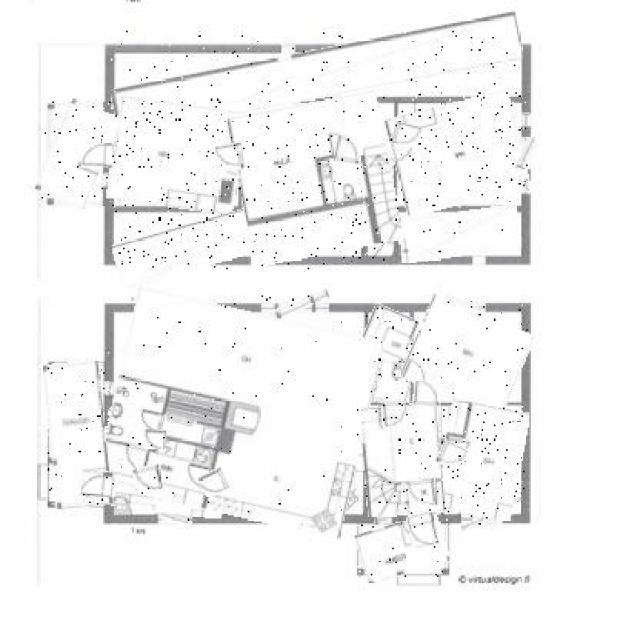door: (104, 300, 373, 526), (111, 29, 523, 117), (235, 97, 398, 260), (114, 195, 360, 272), (391, 97, 526, 209), (110, 98, 242, 211), (406, 303, 528, 411), (437, 401, 525, 517), (363, 403, 443, 515), (48, 362, 109, 508), (43, 102, 114, 206), (112, 451, 225, 515), (398, 208, 520, 260), (357, 517, 448, 577), (110, 403, 164, 468), (363, 308, 415, 362), (168, 404, 223, 450), (366, 360, 412, 405)
window: (408, 512, 437, 548), (82, 471, 115, 497), (134, 466, 163, 494), (437, 443, 468, 469), (216, 143, 247, 169), (335, 135, 363, 163), (81, 143, 112, 168), (392, 123, 422, 148), (382, 402, 408, 429), (410, 480, 436, 505), (202, 471, 229, 495), (414, 382, 440, 406), (143, 431, 166, 449)
zone: (262, 296, 329, 318), (460, 510, 502, 528), (443, 298, 485, 314), (517, 138, 534, 172), (150, 301, 192, 314), (277, 514, 318, 526), (160, 512, 191, 525), (101, 430, 114, 444), (104, 122, 116, 136), (375, 514, 391, 524), (103, 172, 112, 186), (280, 43, 295, 51), (522, 112, 530, 126), (522, 180, 530, 192), (105, 382, 112, 392)
